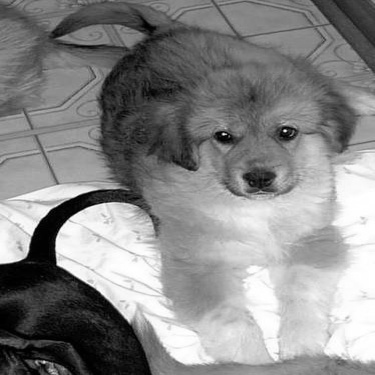dog: (49, 1, 359, 354), (1, 183, 159, 368), (123, 300, 372, 373), (5, 2, 138, 119)
